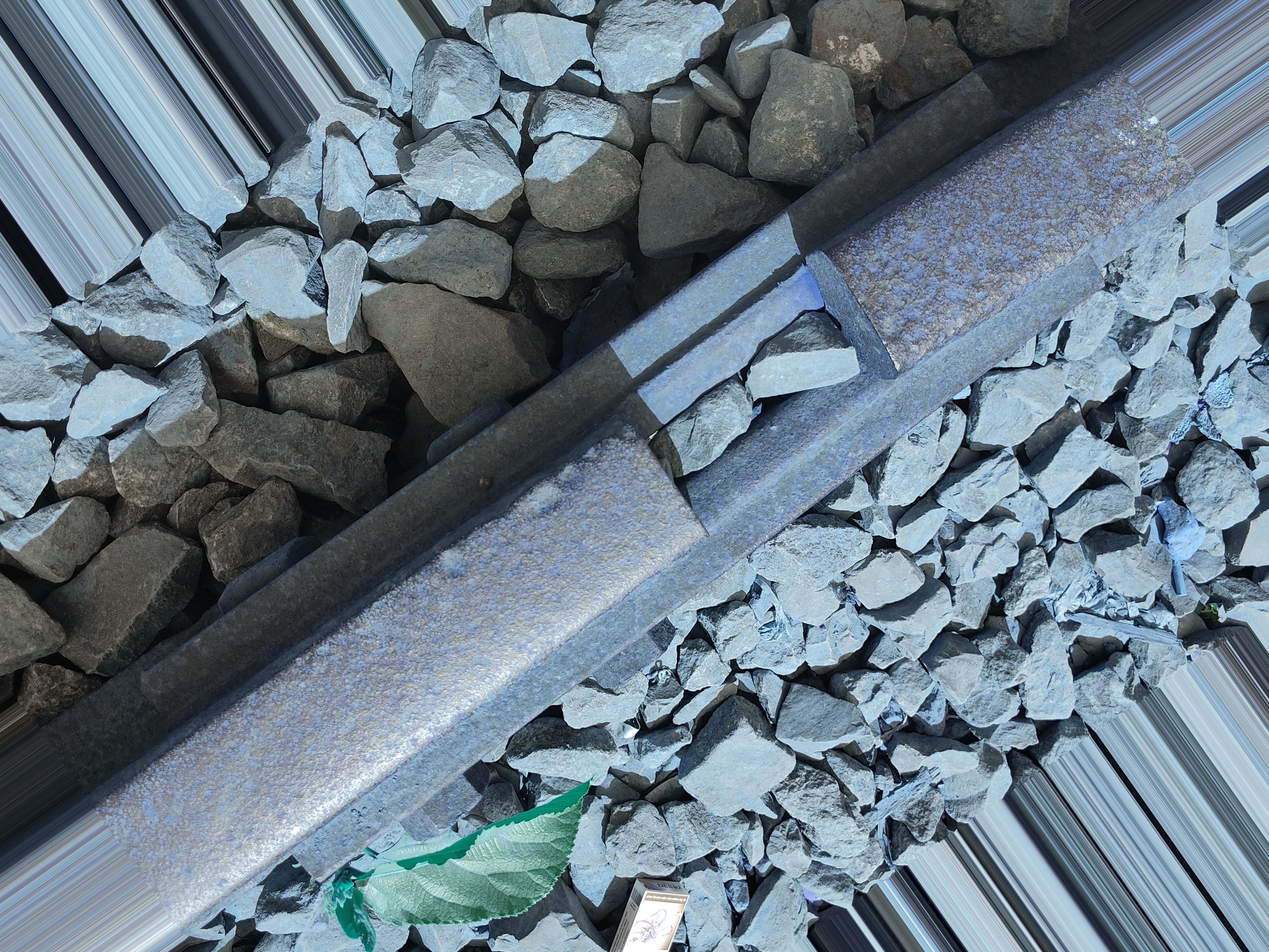tracks_fault: (543, 150, 1023, 628)
